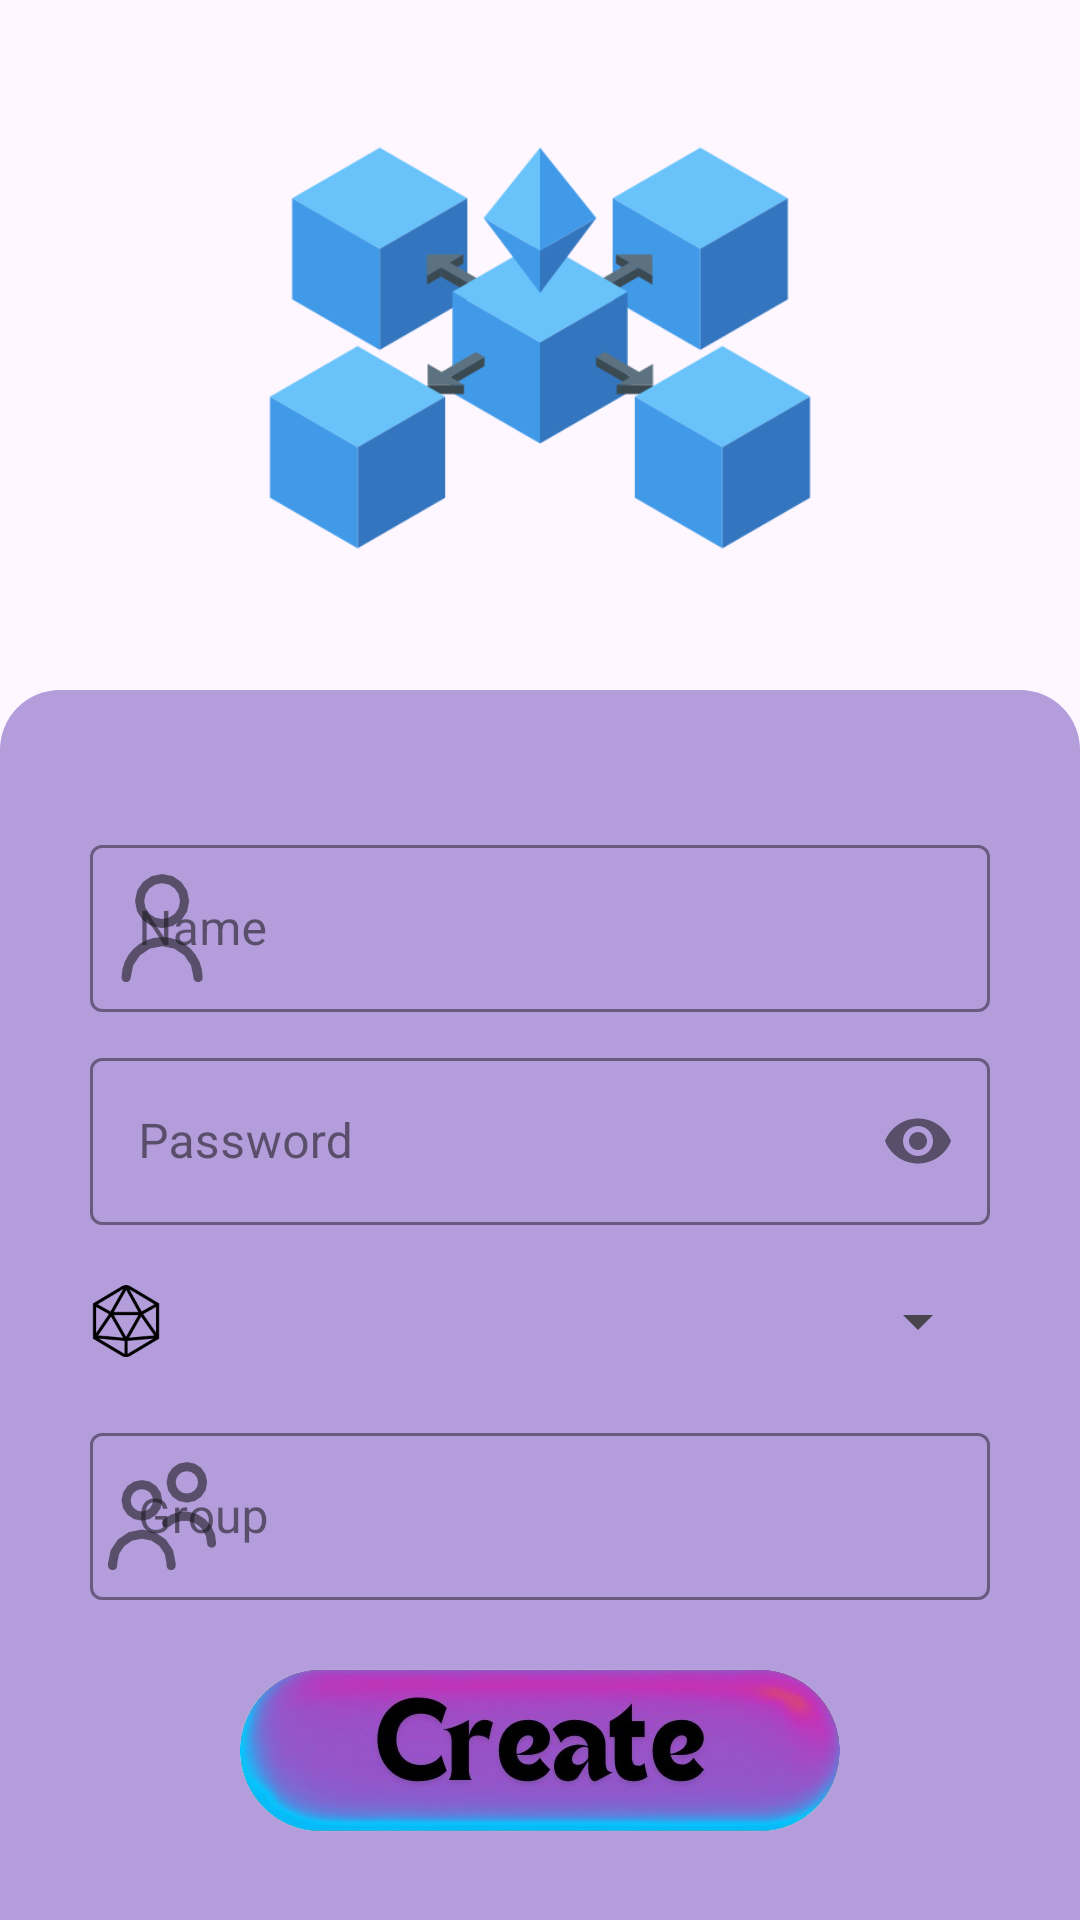

Screen size 1080w x 1920h. Icon name, then its center in pixels as point (x, y):
Role: point (126, 1321)
